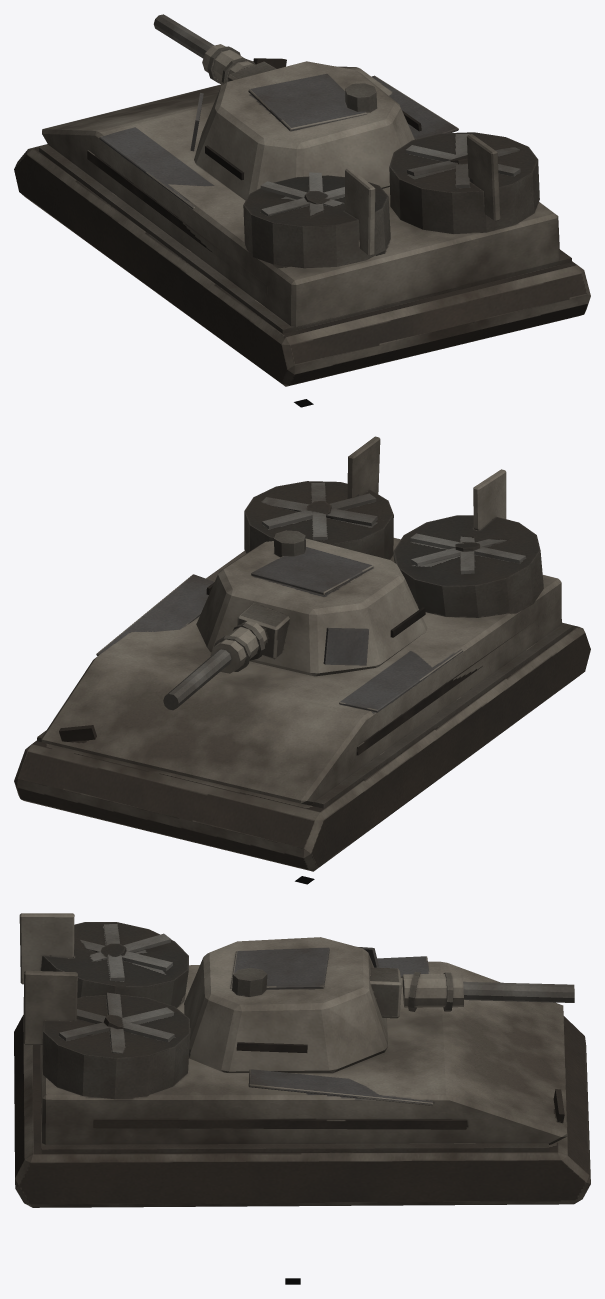
File: ord_skimmer_wreck.fbx
The picture shows the model from 3 angles, top to bottom: view 1: azimuth 30°, elevation 25°; view 2: azimuth 150°, elevation 25°; view 3: azimuth 270°, elevation 25°; orthographic projection.
Parts seen in each view (by area): view 1: base_bar, turret_bar, barrel_bar, fan2_bar, fan1_bar; view 2: base_bar, turret_bar, barrel_bar, fan2_bar, fan1_bar; view 3: base_bar, turret_bar, barrel_bar, fan2_bar, fan1_bar.
Boxes of the visible parts, x1,y1,x2,y2 form: base_bar: (14,58,590,386); turret_bar: (190,61,421,200); barrel_bar: (153,14,276,84); fan2_bar: (405,134,520,188); fan1_bar: (260,172,344,218); base_bar: (14,436,590,871); turret_bar: (196,530,427,676); barrel_bar: (163,603,289,710); fan2_bar: (262,482,377,539); fan1_bar: (410,533,525,574); base_bar: (14,913,590,1207); turret_bar: (184,937,387,1073); barrel_bar: (369,967,574,1018); fan2_bar: (59,992,174,1053); fan1_bar: (74,924,172,981).
Size of the model in its own units: 468 by 488 by 753.
Materials: 2 (2 with a texture image).
